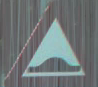Speed Breaker ahead: (12, 9, 87, 75)
